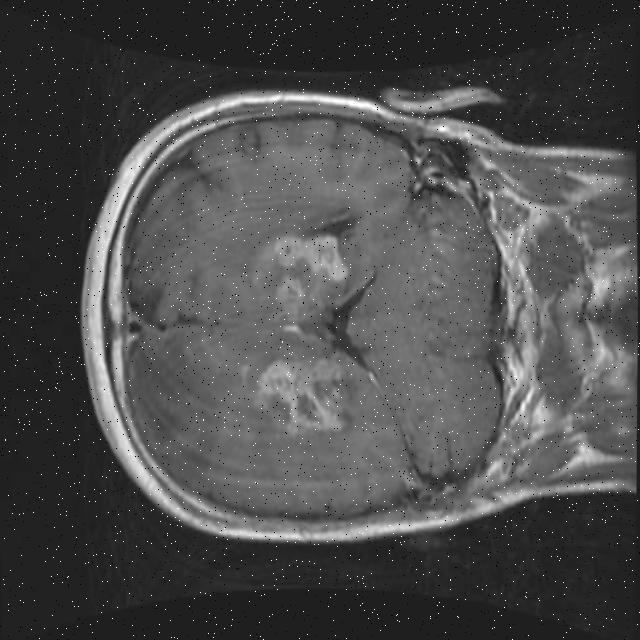Glioma: (251, 352, 350, 439), (261, 229, 350, 281), (275, 275, 306, 319)
